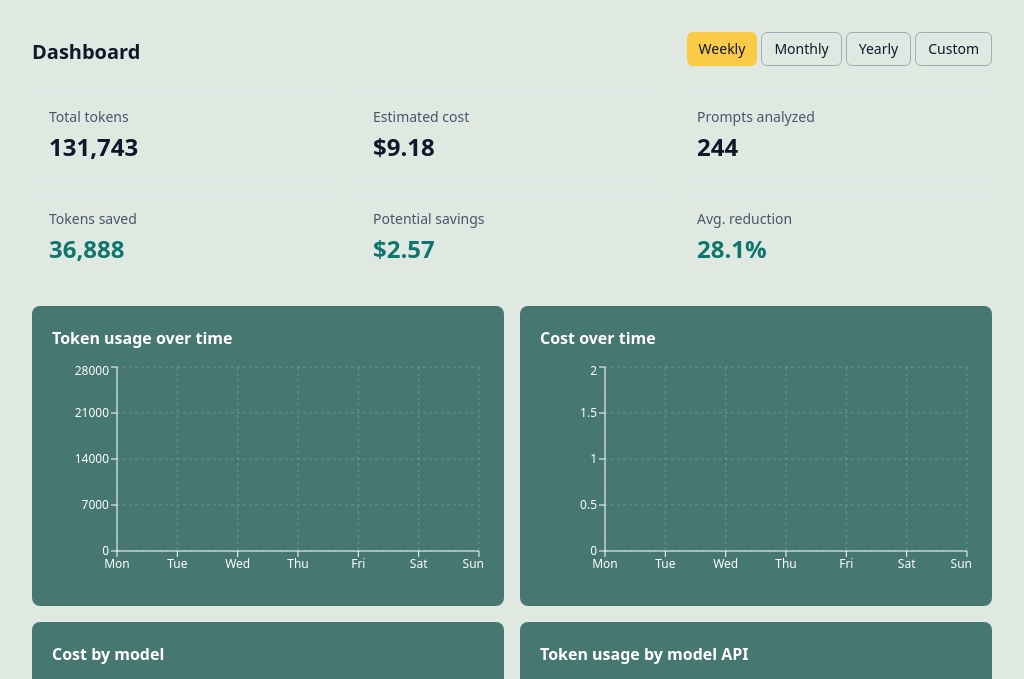
Scenario: dashboard › changes range with the filter and shows date pickers for Custom
Expected: the text "Total tokens" is shown, [49,107,129,126]
Click the button "Monthly" at {"x": 802, "y": 49}, box [761,32,842,66]
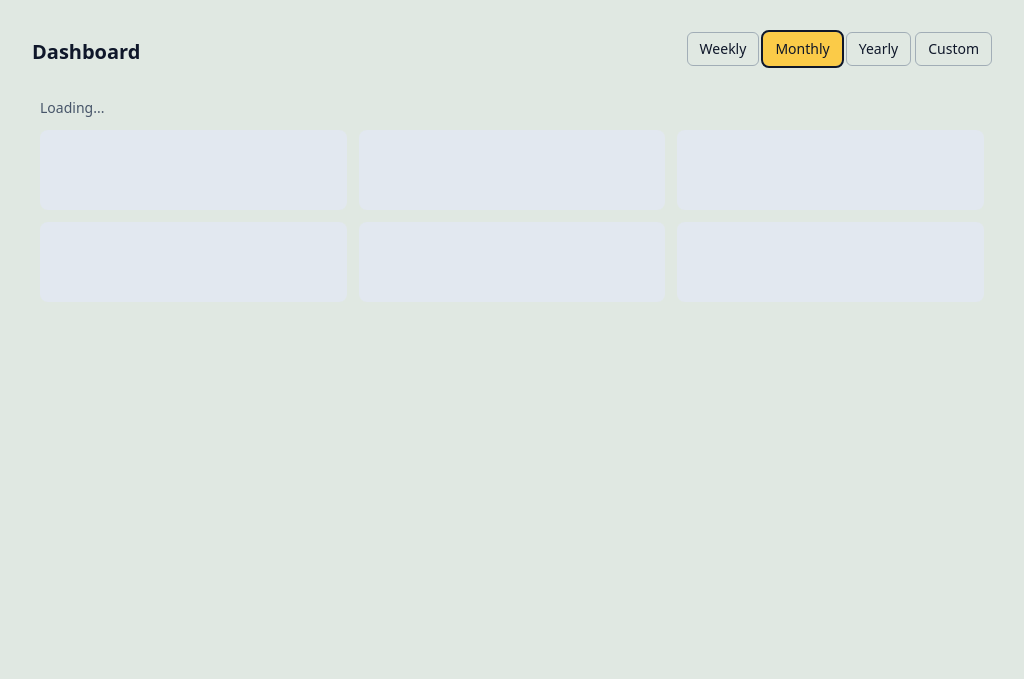
Now the button "Monthly" is pressed, box [763,32,842,66]
Click the button "Custom" at {"x": 954, "y": 49}, box [915,32,992,66]
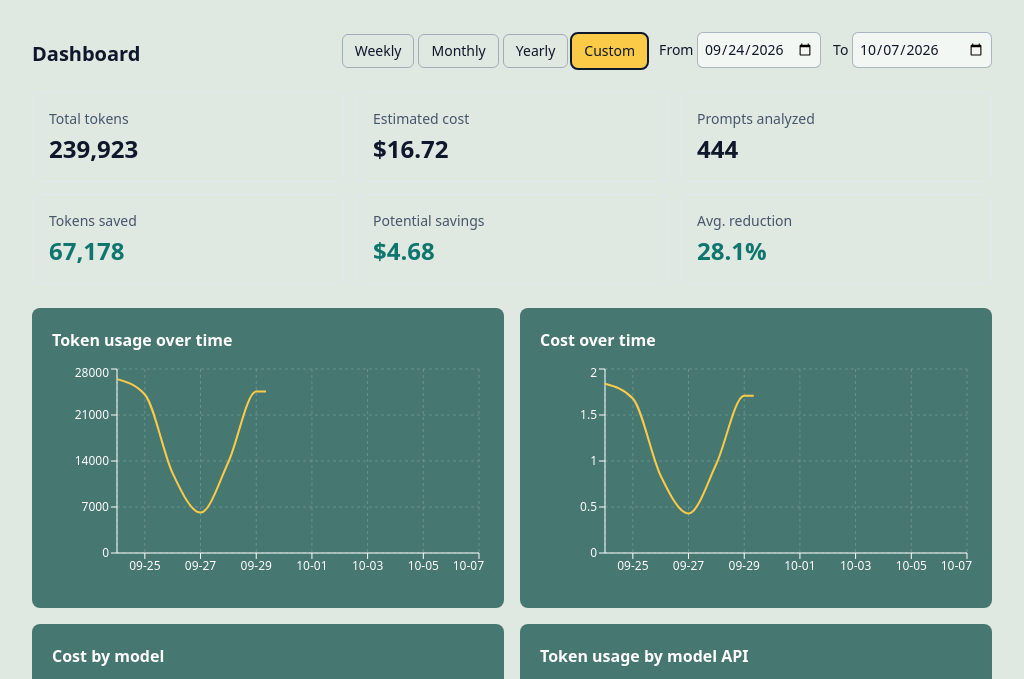
Now the date field labelled "From" is shown, box [697,32,821,68]
Now the date field labelled "To" is shown, box [852,32,992,68]
Now the text "Total tokens" is shown, box [49,109,129,128]
